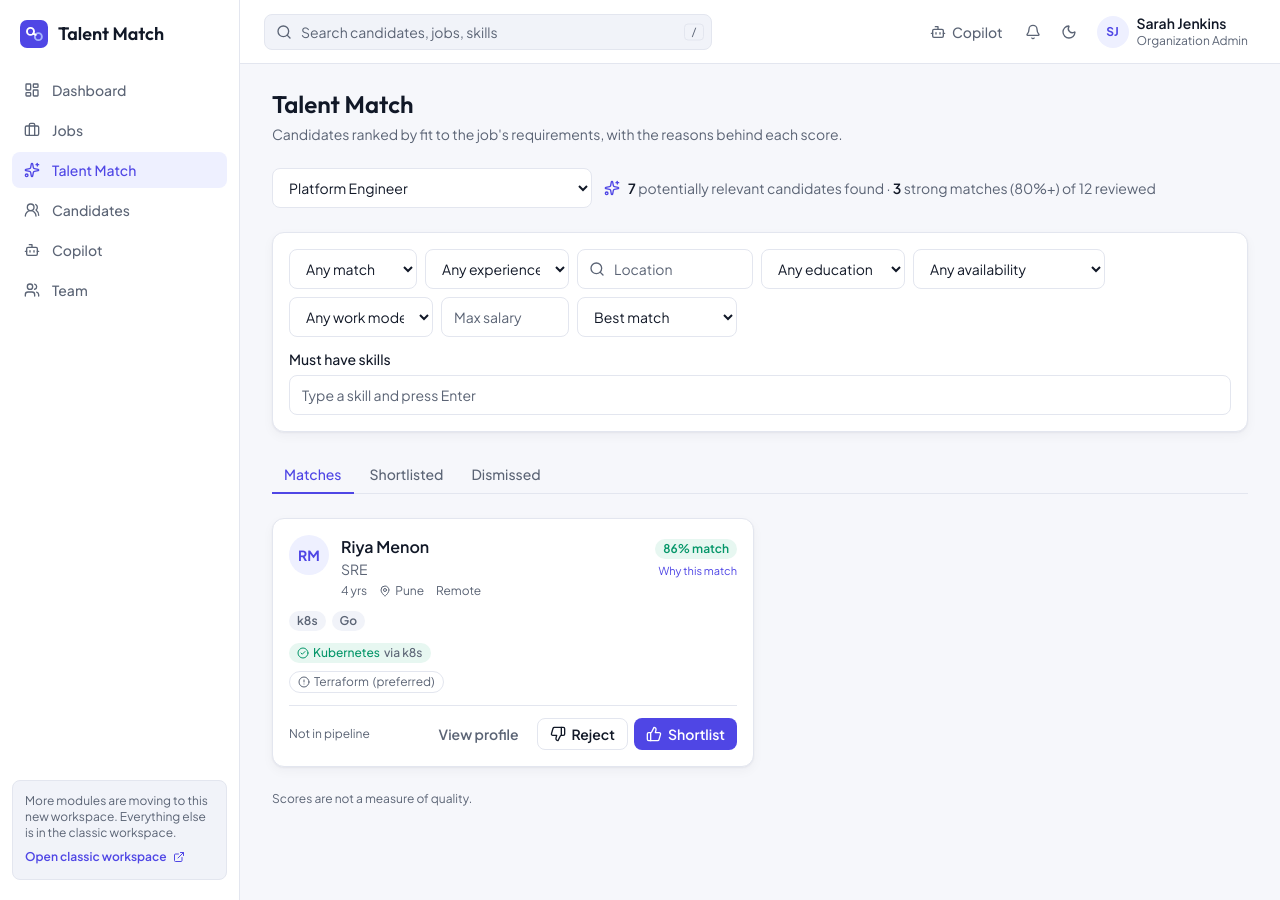
Talent Match › shortlisting is an explicit action
Step 1. Click the button "Shortlist" → coordinates (686, 734), box left=634, top=718, right=737, bottom=750
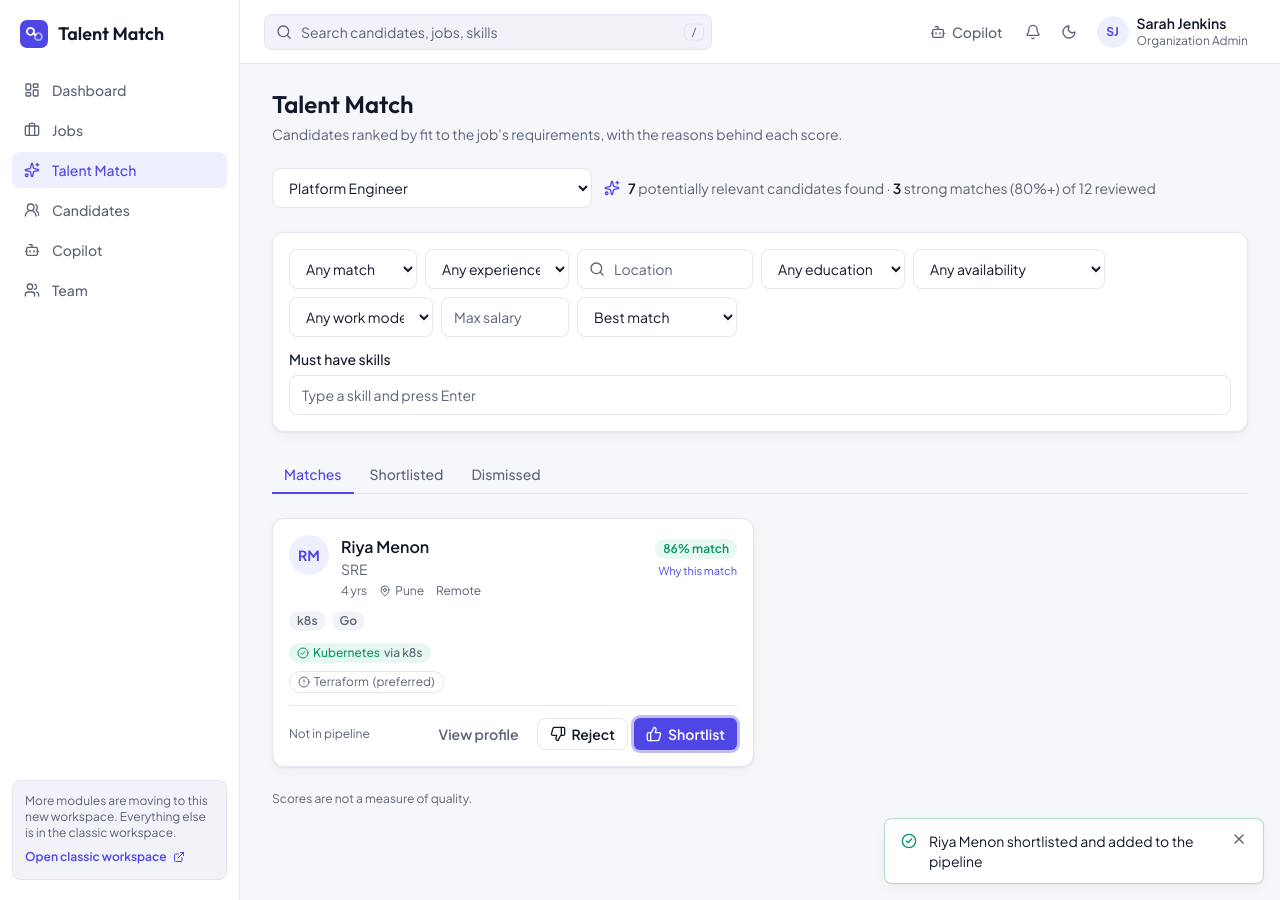
Check: the text "Riya Menon shortlisted and added to the pipeline" is shown, box left=929, top=831, right=1219, bottom=871
